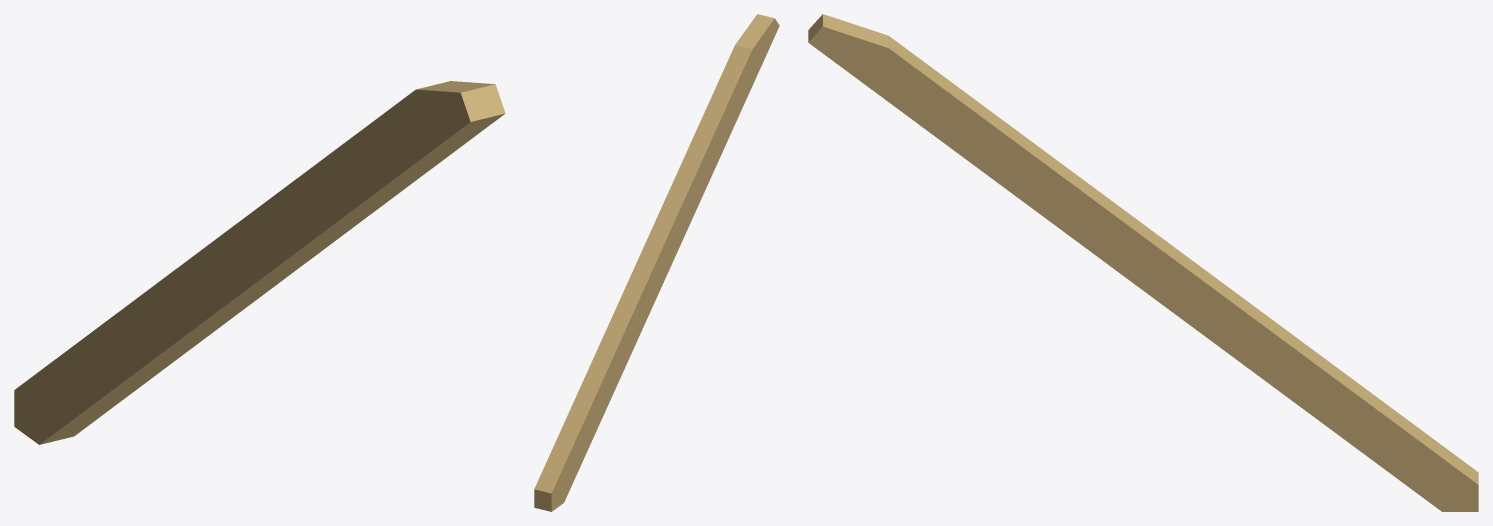
3 views of the same model, side by side, from view 1: azimuth 30°, elevation 25°; view 2: azimuth 150°, elevation 25°; view 3: azimuth 270°, elevation 25° (orthographic). The views are drawn at different scales.
Visible parts, largest first — view 1: L1-3-S13-329-WEB04; view 2: L1-3-S13-329-WEB04; view 3: L1-3-S13-329-WEB04.
Part boxes in pixels (<box>): L1-3-S13-329-WEB04: <box>14,81,505,444</box>; L1-3-S13-329-WEB04: <box>534,14,779,511</box>; L1-3-S13-329-WEB04: <box>808,14,1478,511</box>.
Size of the model in its own units: 0.045 by 0.8126 by 1.02.
